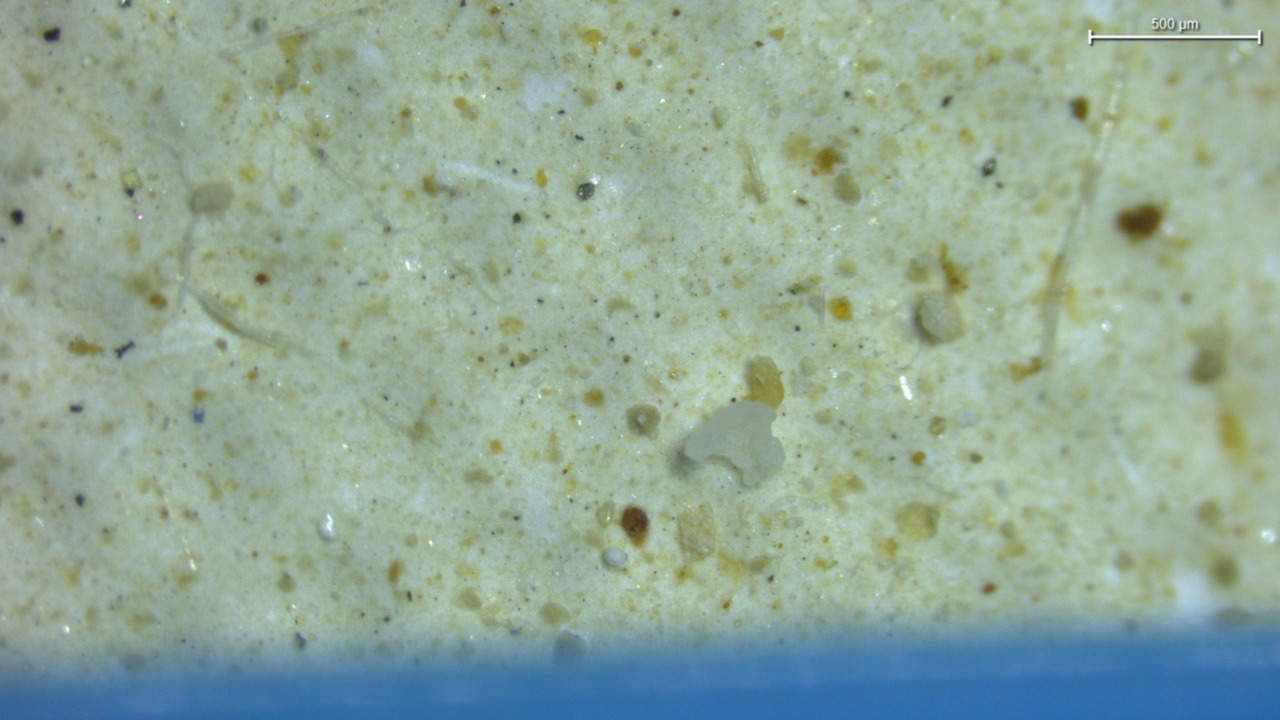microplastic_fragment: (684, 401, 784, 486), (917, 293, 963, 343)
